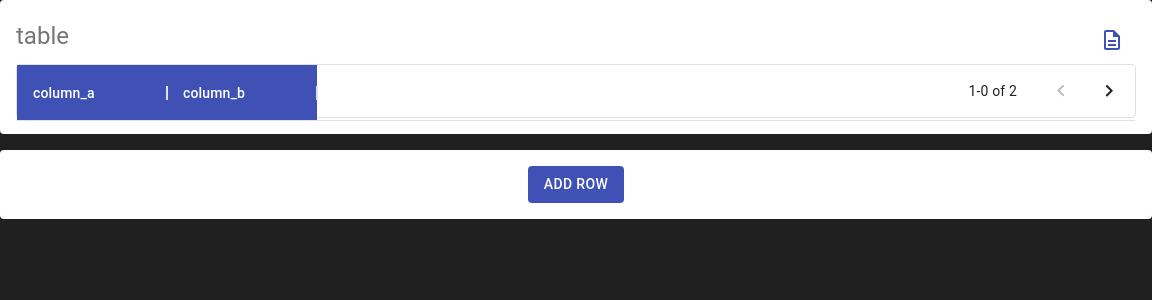
Scenario: <DatabaseTableContainer /> › on add row button click › should open new row form
Click the button "add row": (576, 184) [528, 166, 624, 202]
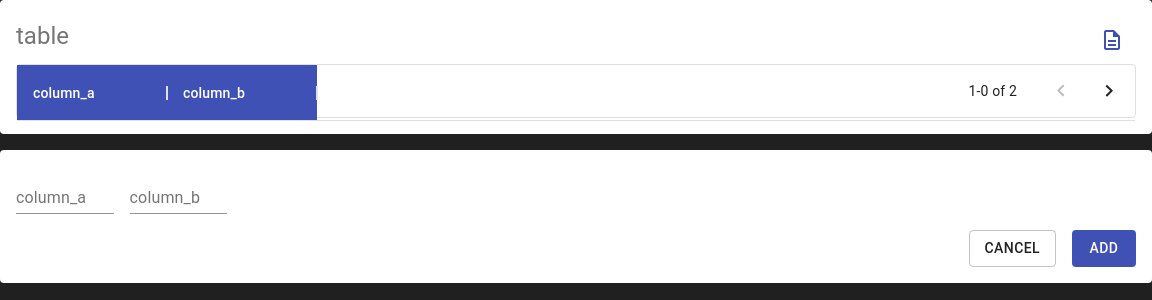
Check: the form named "new row" is shown, box [16, 166, 1136, 266]
